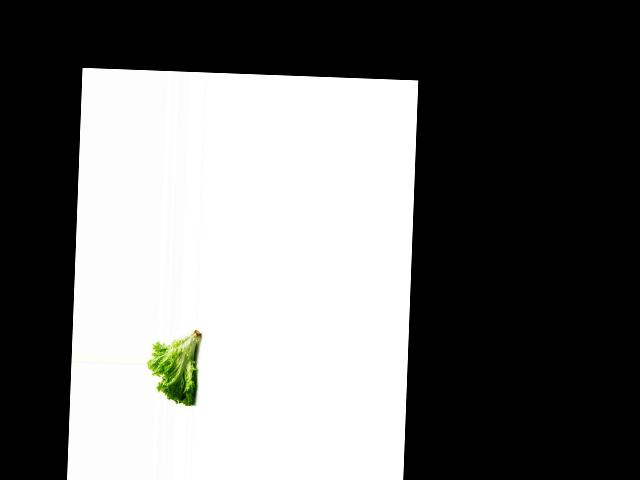lettuce: (145, 326, 203, 406)
